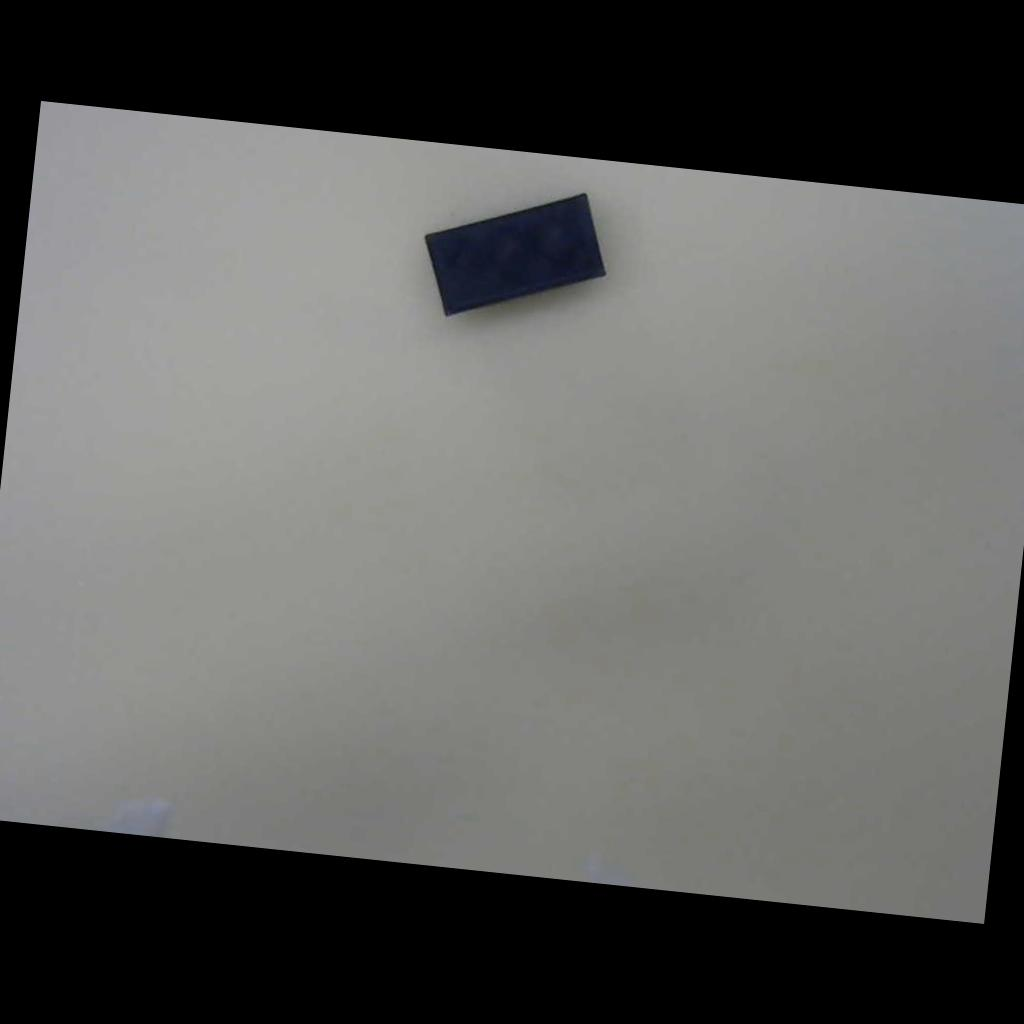rectangle: (412, 183, 618, 327)
